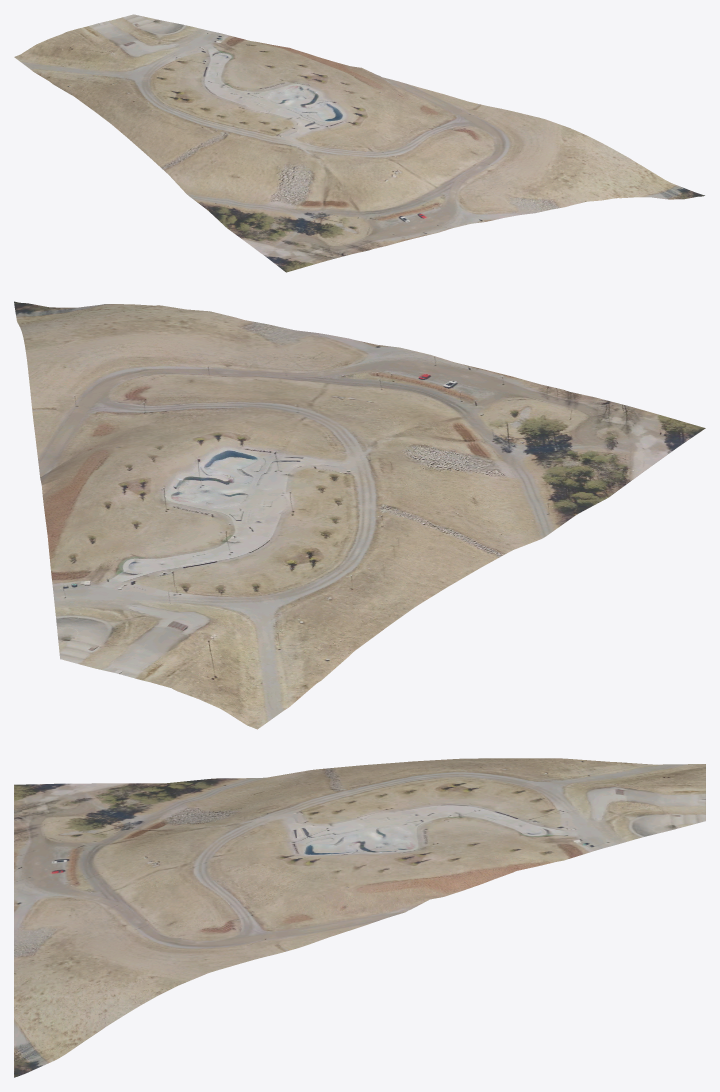
Rendered from CM_Terrain_24492711_6818360.fbx.
3 views of the same model, one above another, from view 1: azimuth 30°, elevation 25°; view 2: azimuth 150°, elevation 25°; view 3: azimuth 270°, elevation 25° (orthographic). The views are drawn at different scales.
Parts seen in each view (by area): view 1: CM_Terrain_24492711_6818360_LOD0; view 2: CM_Terrain_24492711_6818360_LOD0; view 3: CM_Terrain_24492711_6818360_LOD0.
Part boxes in pixels (left/top/right/bottom): CM_Terrain_24492711_6818360_LOD0: left=14, top=14, right=704, bottom=272; CM_Terrain_24492711_6818360_LOD0: left=14, top=301, right=705, bottom=729; CM_Terrain_24492711_6818360_LOD0: left=14, top=758, right=705, bottom=1077.
Size of what is drawn, in the model's own units: 182 by 25.25 by 205.
